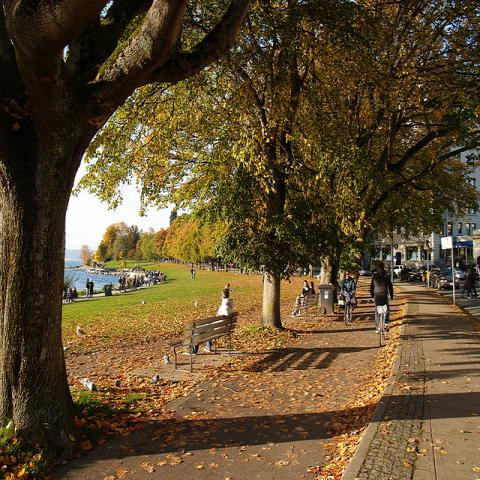car: (430, 269, 460, 291), (369, 266, 397, 280), (398, 267, 424, 282), (422, 264, 441, 282), (454, 267, 466, 280), (360, 270, 370, 276)
